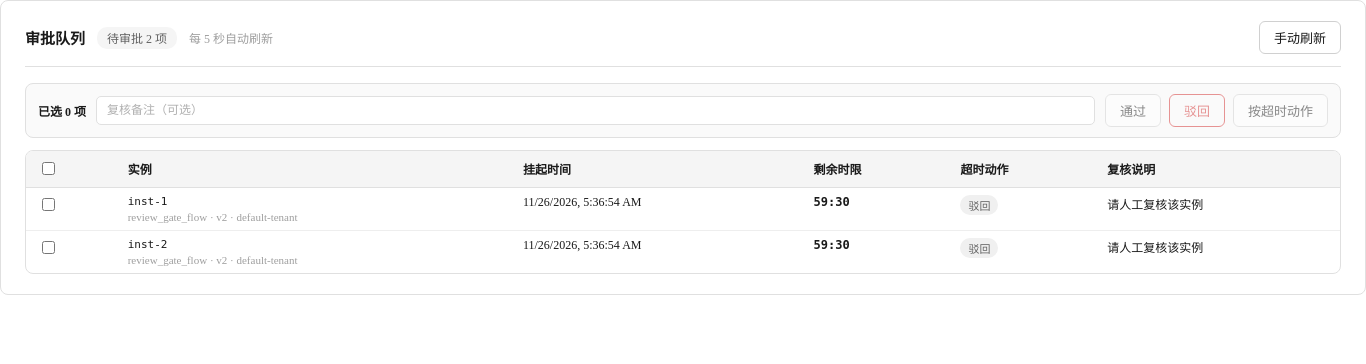
Test: ApprovalQueuePanel 批量复核 › 混合结果汇总：skipped/error 计数如实透出
The image size is (1366, 364).
Click the checkbox named "选择实例 inst-1". click: [48, 204]
box: x1=42 y1=198 x2=55 y2=211
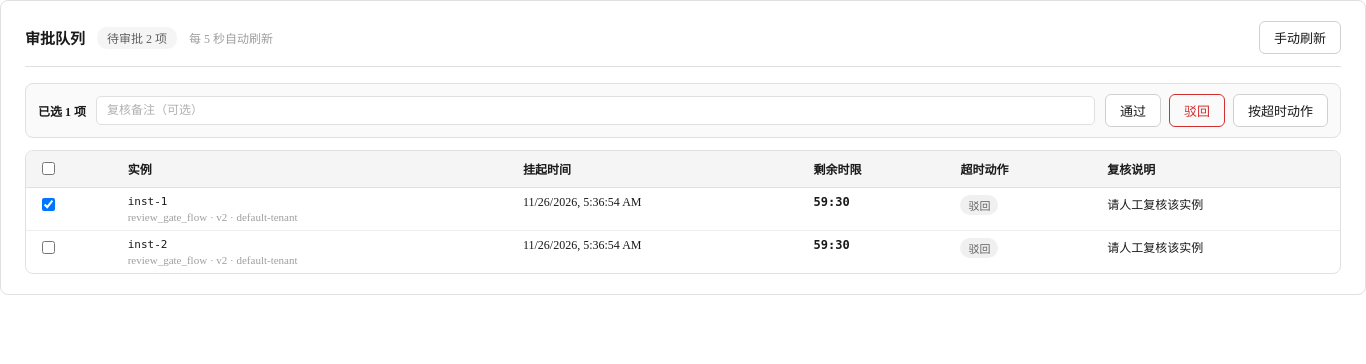
Click the button "驳回". click: [1197, 110]
box: x1=1169 y1=94 x2=1225 y2=127
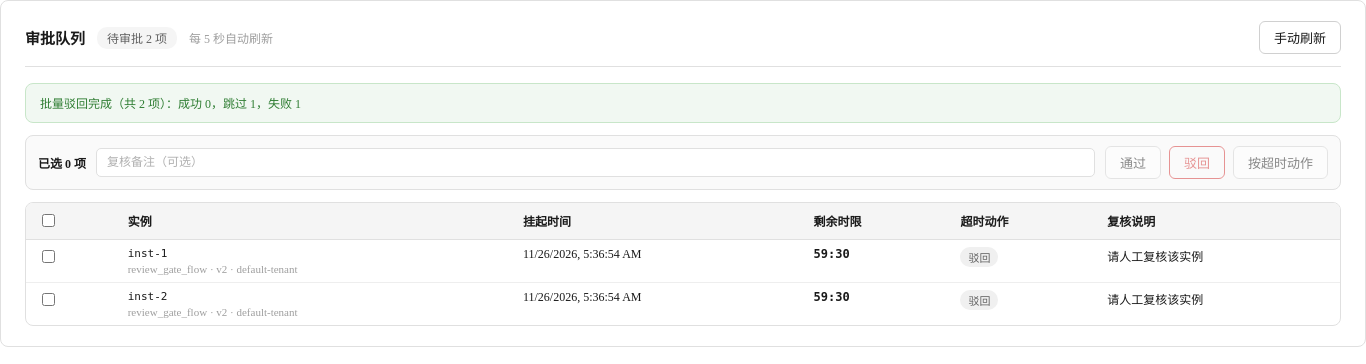
Now the text "批量驳回完成（共 2 项）：成功 0，跳过 1，失败 1" is shown, box x1=25 y1=83 x2=1341 y2=123
